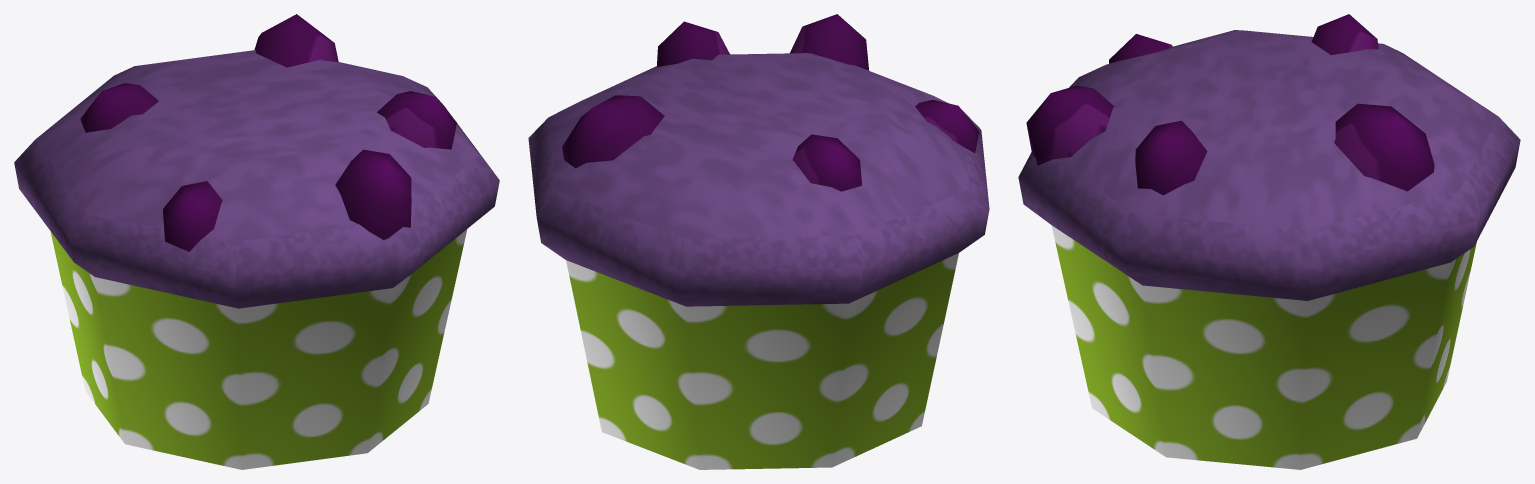
The model's file is Muffin_C_02.FBX.
3 renders of one model, left to right at view 1: azimuth 30°, elevation 25°; view 2: azimuth 150°, elevation 25°; view 3: azimuth 270°, elevation 25°, orthographic. The views are drawn at different scales.
Visible parts, largest first — view 1: Muffin; view 2: Muffin; view 3: Muffin.
Part boxes in pixels (box(x1,y1,x2,y2)): Muffin: box(14, 14, 499, 469); Muffin: box(528, 14, 989, 469); Muffin: box(1018, 14, 1520, 469).
Size of the model in its own units: 36.61 by 26.52 by 36.61.
